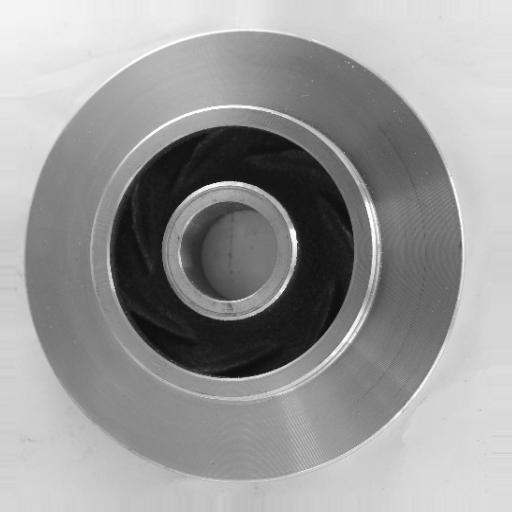polished_casting: (25, 29, 463, 485)
